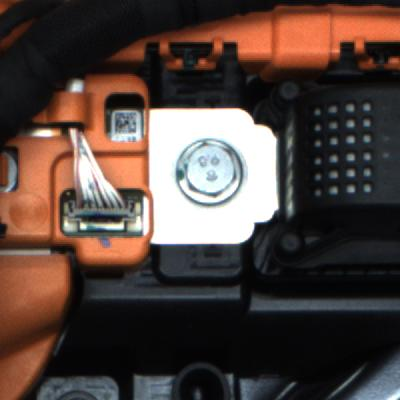nut_b: (169, 138, 257, 215)
